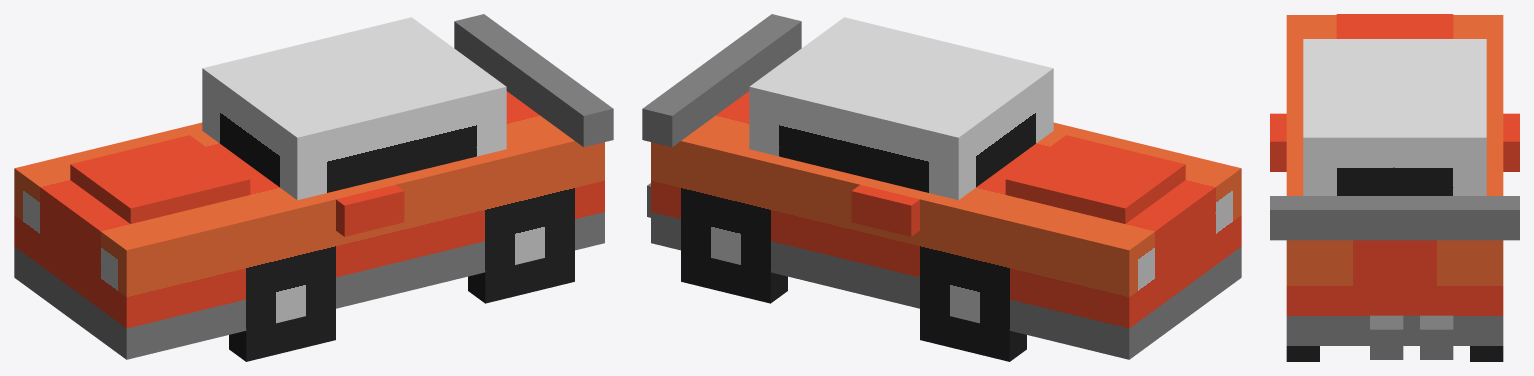
The model's file is veh_car_race.dae.
The picture shows the model from 3 angles, left to right: view 1: azimuth 30°, elevation 25°; view 2: azimuth 150°, elevation 25°; view 3: azimuth 270°, elevation 25°; orthographic projection. The views are drawn at different scales.
Parts seen in each view (by area): view 1: veh_car_race; view 2: veh_car_race; view 3: veh_car_race.
Boxes of the visible parts, x1,y1,x2,y2 form: veh_car_race: (14, 14, 613, 361); veh_car_race: (642, 14, 1241, 361); veh_car_race: (1270, 14, 1519, 361).
Size of the model in its own units: 3.4 by 1.3 by 1.5.
